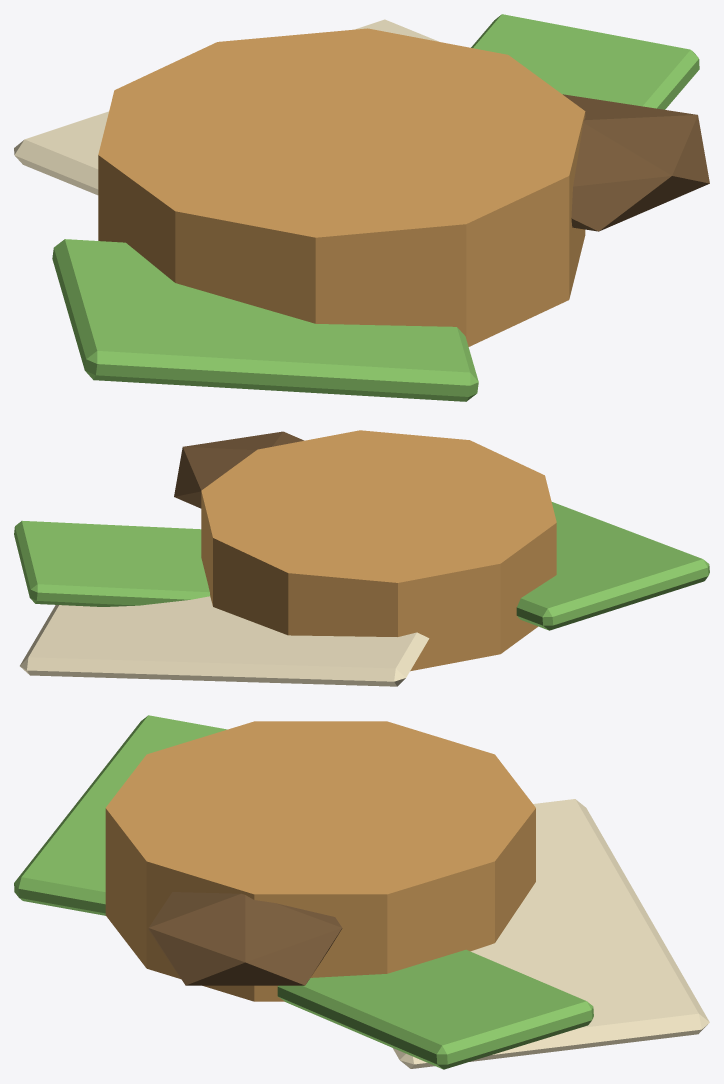
File: BurgerLettuceScraps.glb
3 renders of one model, top to bottom at view 1: azimuth 30°, elevation 25°; view 2: azimuth 150°, elevation 25°; view 3: azimuth 270°, elevation 25°, orthographic. The views are drawn at different scales.
Visible parts, largest first — view 1: BurgerBunDiscard, LettuceLeafA, PattyScrap, LettuceLeafB, CrinkledWrapper; view 2: BurgerBunDiscard, CrinkledWrapper, LettuceLeafB, LettuceLeafA, PattyScrap; view 3: BurgerBunDiscard, CrinkledWrapper, LettuceLeafB, PattyScrap, LettuceLeafA.
Part boxes in pixels (x1=…): BurgerBunDiscard: x1=98, y1=28, x2=585, y2=346; LettuceLeafA: x1=52, y1=239, x2=478, y2=401; PattyScrap: x1=563, y1=94, x2=709, y2=231; LettuceLeafB: x1=471, y1=14, x2=699, y2=109; CrinkledWrapper: x1=14, y1=19, x2=439, y2=195; BurgerBunDiscard: x1=201, y1=430, x2=556, y2=671; CrinkledWrapper: x1=20, y1=596, x2=429, y2=686; LettuceLeafB: x1=14, y1=520, x2=210, y2=606; LettuceLeafA: x1=516, y1=502, x2=709, y2=630; PattyScrap: x1=174, y1=431, x2=303, y2=508; BurgerBunDiscard: x1=105, y1=721, x2=535, y2=1001; CrinkledWrapper: x1=393, y1=799, x2=709, y2=1068; LettuceLeafB: x1=277, y1=949, x2=593, y2=1069; PattyScrap: x1=148, y1=892, x2=342, y2=985; LettuceLeafA: x1=14, y1=715, x2=227, y2=915.
Size of the model in its own units: 0.7245 by 0.1197 by 0.6467.
